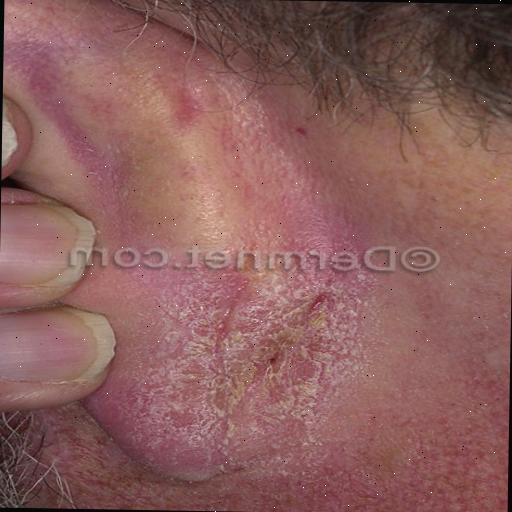Skin_Lesion: (189, 341, 289, 435), (296, 282, 368, 374), (482, 377, 510, 432), (278, 122, 323, 139)
